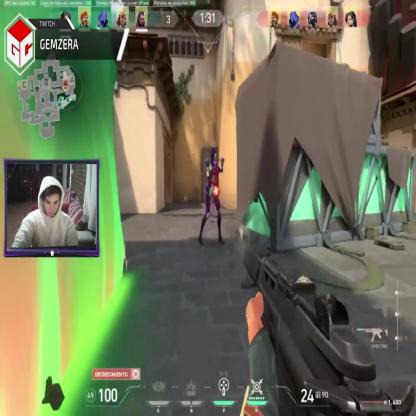enemy: (198, 147, 224, 244)
enemy_head: (210, 148, 216, 162)
